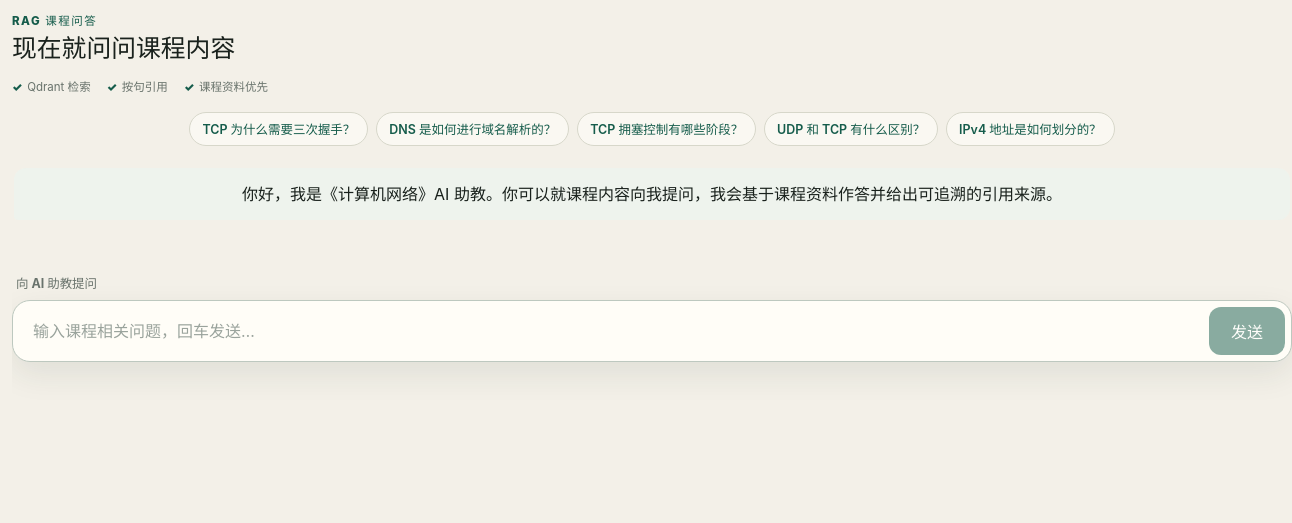
ChatPanel › shows a readable service error
In the field labelled "向 AI 助教提问": (610, 331) [19,307,1201,355], type "测试问题"
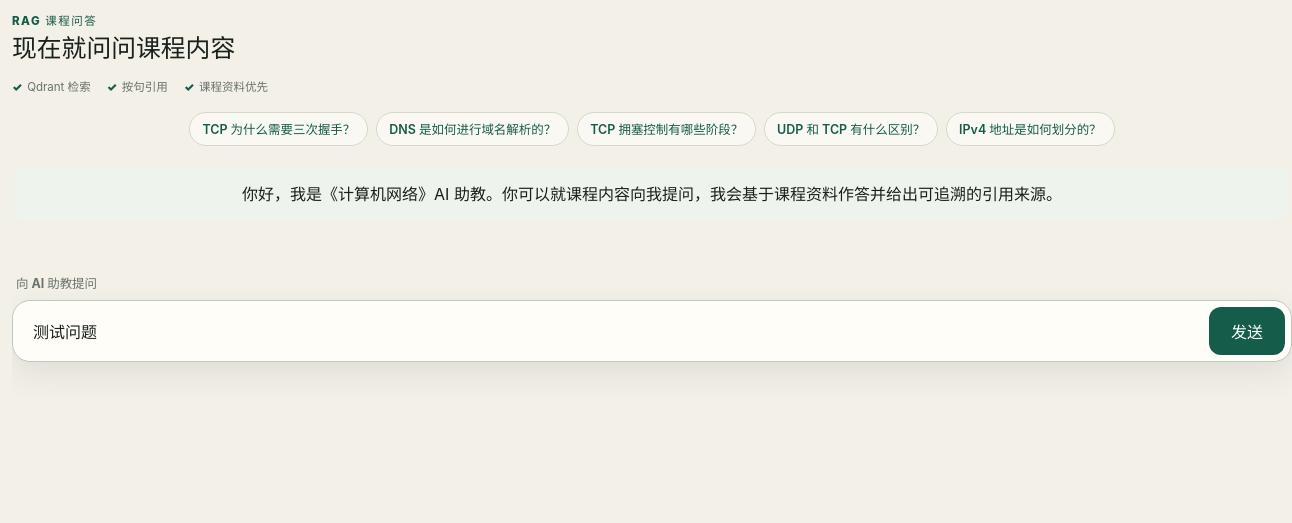
Click the button "发送": (1247, 331) [1209,307,1285,355]
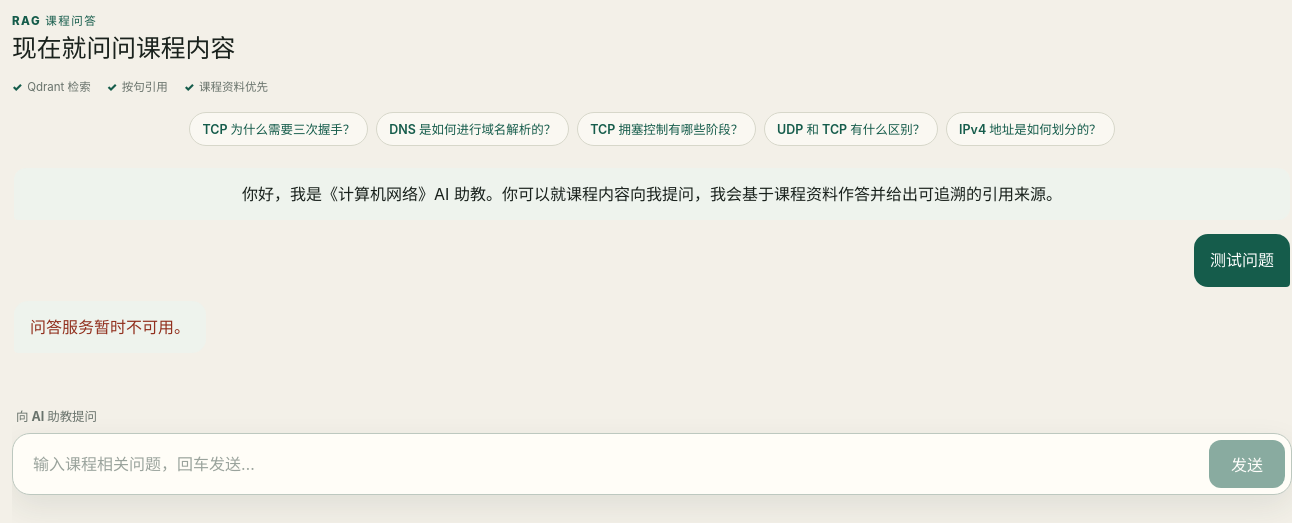
Expected: the text "问答服务暂时不可用。" is shown, [14,301,206,353]
